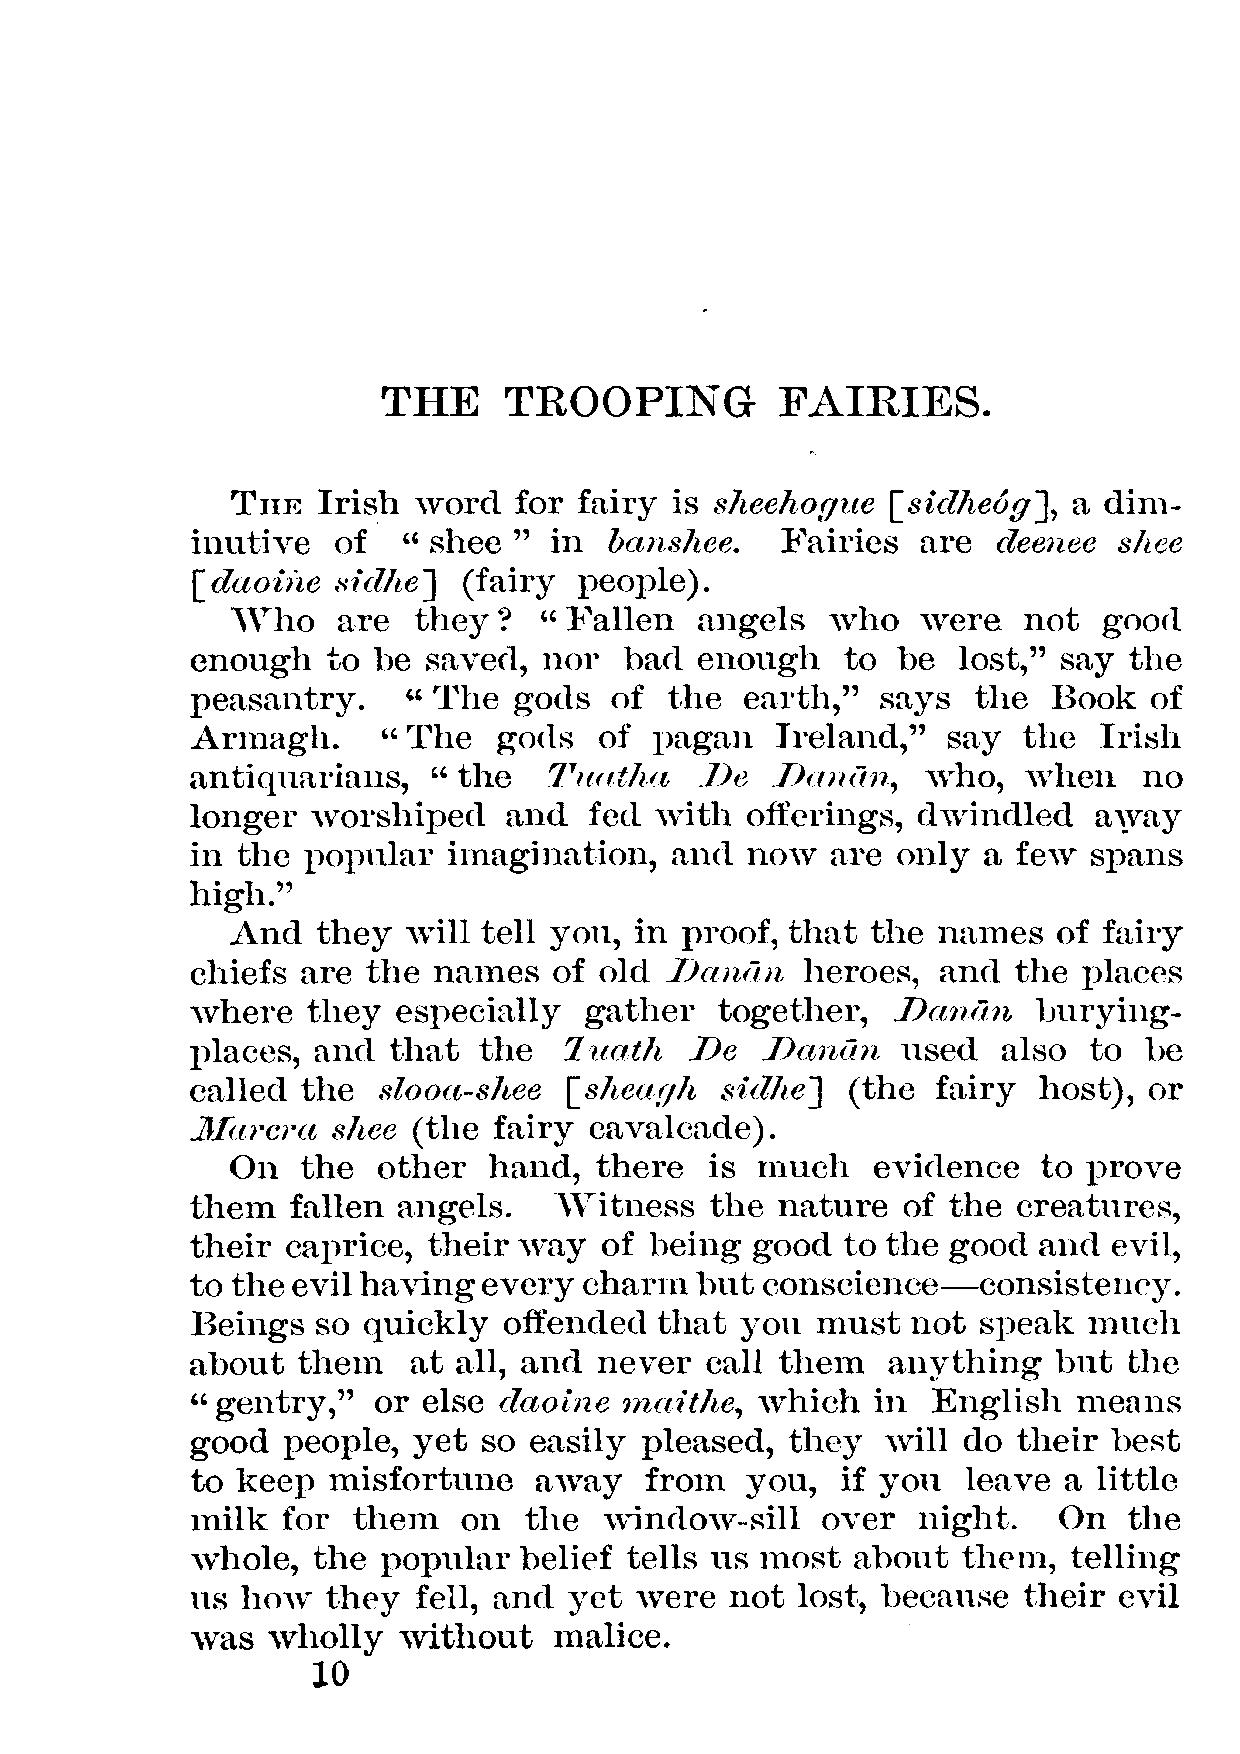chapter: (376, 381, 992, 421)
content: (185, 487, 1188, 1655)
content_pagenumber: (309, 1659, 349, 1690)
